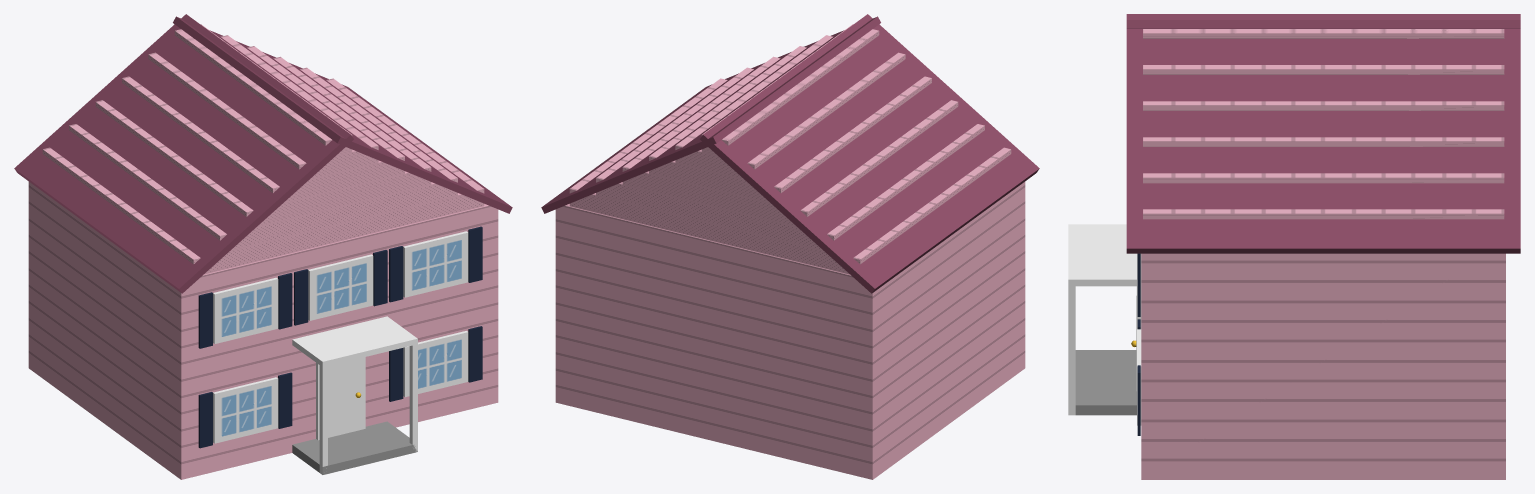
Rendered from house_pink.glb.
The picture shows the model from 3 angles, left to right: view 1: azimuth 30°, elevation 25°; view 2: azimuth 150°, elevation 25°; view 3: azimuth 270°, elevation 25°; orthographic projection. The views are drawn at different scales.
Parts seen in each view (by area): view 1: house_pink; view 2: house_pink; view 3: house_pink.
Part boxes in pixels (x1,y1,x2,y2): house_pink: (14,14,512,479); house_pink: (541,14,1039,479); house_pink: (1068,14,1520,479).
Bounding box in the file's own units: 6.32 × 5.6 × 6.2.
8 materials, 2 textured.
